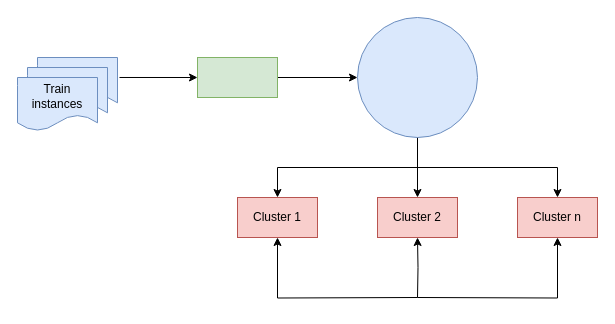
Some shapes in this 615 by 324 pixel diagram are drawn without their labels. The shapes that lost their labels are listed below. From the top down, each one's centre as x and y in pixels, then its label:
At point (237, 77): "Feature Vectors".
At point (417, 77): "Clustering algorithms".
